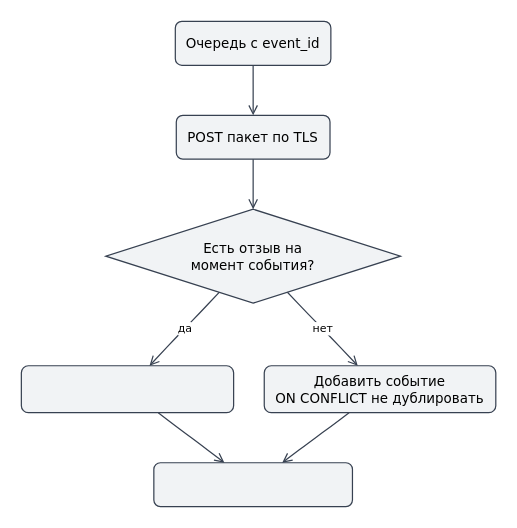
The diagram is 517 pixels wide and 528 high, and some of its shapes have lost their labels. The box of each missing label's shape, as (x1, y1, x2, y2) in pixels:
Подтверждение event_id: (153, 462, 352, 507)
Сохранить как конфликт; не включать в показатели: (20, 365, 234, 413)
